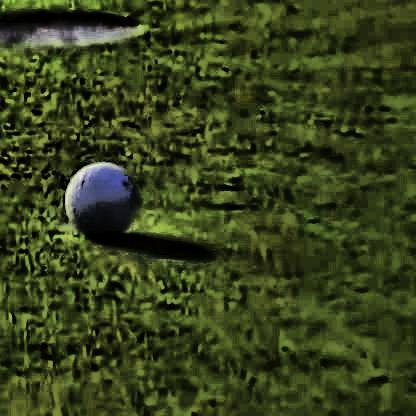golfball: (62, 158, 136, 234)
